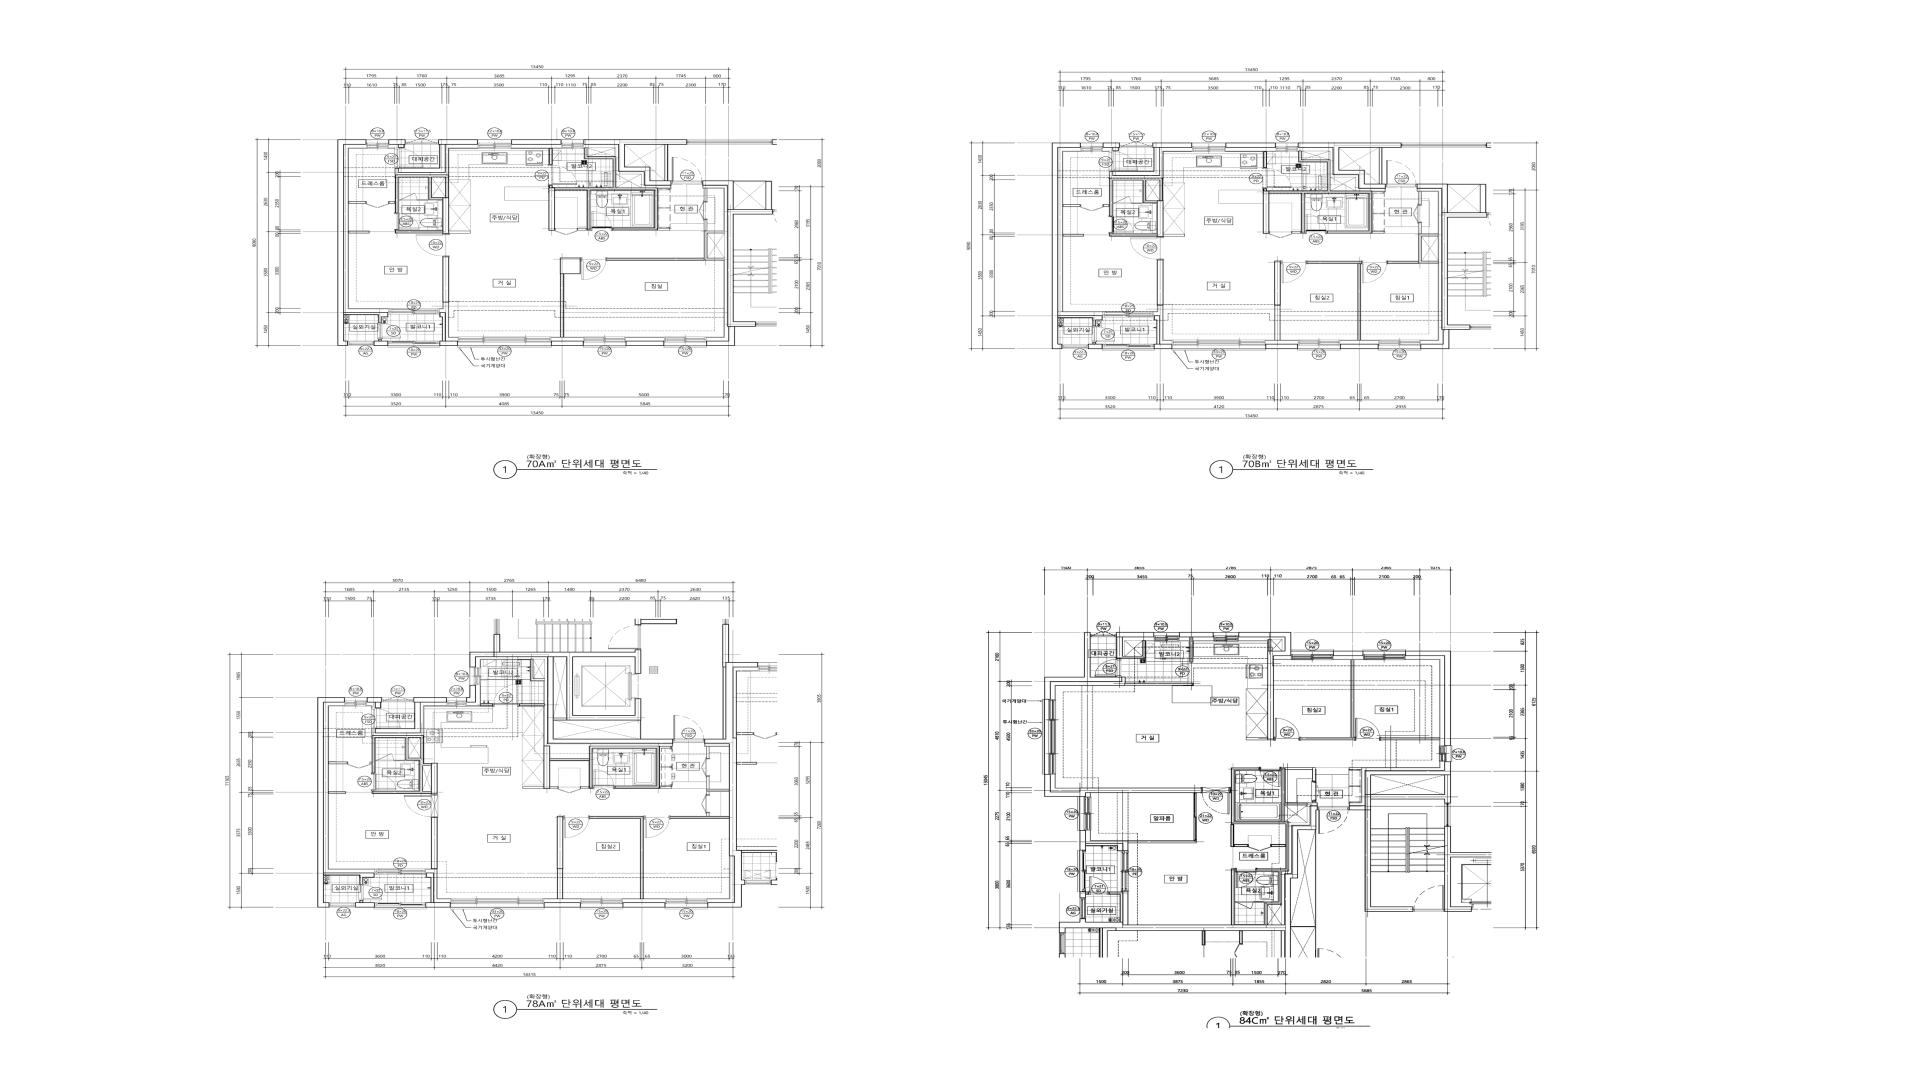door: (1317, 806, 1349, 833), (1201, 787, 1232, 815), (671, 157, 703, 183), (673, 715, 704, 741), (608, 625, 641, 650), (404, 794, 438, 818), (1414, 886, 1444, 913), (1386, 161, 1418, 186), (415, 233, 448, 257), (549, 165, 578, 186), (1274, 717, 1300, 740), (1354, 717, 1381, 740), (1280, 261, 1307, 284), (493, 684, 520, 707), (563, 816, 589, 839), (644, 816, 670, 839), (1263, 167, 1291, 189), (394, 148, 423, 167), (1109, 152, 1138, 171), (1362, 261, 1387, 284), (580, 258, 607, 280), (372, 708, 400, 728), (1095, 659, 1121, 676), (1259, 767, 1282, 787), (591, 211, 613, 231), (1234, 869, 1257, 887), (1304, 215, 1327, 233), (592, 770, 615, 789), (1109, 216, 1133, 233), (372, 774, 396, 791), (1088, 877, 1109, 895), (378, 323, 401, 339), (1093, 326, 1116, 342), (360, 885, 382, 901), (1193, 793, 1197, 840), (1312, 781, 1320, 803), (1270, 231, 1292, 239), (365, 202, 389, 208), (1080, 204, 1104, 211), (347, 762, 371, 769), (1249, 844, 1271, 851), (555, 228, 578, 235), (558, 786, 580, 793), (1234, 902, 1253, 910), (699, 202, 707, 220), (1414, 204, 1422, 223), (702, 758, 709, 777), (400, 193, 417, 200), (376, 753, 393, 761), (702, 795, 709, 812), (1091, 632, 1116, 637), (1113, 196, 1131, 203)
wall: (1059, 806, 1317, 957), (469, 634, 673, 744), (670, 624, 741, 907), (476, 657, 673, 758), (607, 186, 728, 342), (1349, 762, 1451, 913), (1232, 767, 1317, 924), (318, 698, 375, 907), (1416, 183, 1487, 349), (703, 181, 773, 345), (1052, 142, 1102, 349), (338, 140, 388, 345), (555, 145, 671, 231), (1263, 150, 1373, 233), (323, 703, 375, 873), (1058, 148, 1102, 315), (1238, 632, 1291, 740), (1044, 632, 1125, 699), (543, 746, 659, 789), (1298, 142, 1402, 189), (584, 140, 687, 186), (589, 816, 644, 899), (1307, 261, 1362, 340), (1300, 659, 1354, 740), (1406, 651, 1451, 746), (1444, 825, 1491, 913), (1418, 189, 1443, 344), (1298, 148, 1386, 191), (372, 736, 438, 794), (1044, 774, 1201, 796), (1109, 178, 1163, 236), (394, 140, 477, 175), (1113, 142, 1192, 175), (375, 698, 447, 733), (1109, 148, 1192, 178), (372, 703, 447, 736), (1291, 829, 1316, 927), (389, 175, 448, 214), (551, 274, 583, 342), (1371, 775, 1444, 795), (708, 856, 735, 903), (1266, 306, 1298, 344), (1116, 632, 1154, 658), (512, 145, 562, 165), (1080, 831, 1129, 851), (426, 873, 451, 907), (426, 869, 451, 902), (439, 302, 458, 342), (1154, 306, 1172, 344), (1154, 315, 1172, 349), (1122, 637, 1154, 657), (439, 313, 458, 345), (556, 816, 563, 899), (707, 233, 725, 258), (1109, 891, 1124, 922), (1422, 236, 1439, 261), (707, 777, 729, 795), (1232, 824, 1249, 848), (704, 744, 729, 758), (431, 818, 438, 869), (560, 257, 580, 274), (1179, 632, 1213, 641), (530, 659, 545, 680), (1156, 260, 1163, 306), (549, 186, 555, 231), (1274, 261, 1280, 306), (1146, 181, 1159, 203), (467, 684, 480, 707), (634, 618, 676, 625), (1225, 142, 1276, 148), (587, 148, 616, 157), (1129, 840, 1196, 844), (512, 140, 562, 145), (409, 737, 421, 758), (1333, 651, 1364, 659), (443, 257, 448, 302), (1269, 637, 1284, 651), (622, 902, 665, 907), (1225, 148, 1276, 152), (1340, 344, 1378, 349), (543, 902, 580, 907), (394, 229, 443, 233), (443, 198, 448, 233), (1125, 683, 1193, 686), (467, 684, 476, 703), (622, 899, 665, 903), (367, 698, 382, 708), (1266, 344, 1298, 349), (1102, 142, 1120, 152), (1381, 737, 1440, 740), (1340, 340, 1378, 344), (626, 342, 663, 345), (626, 338, 663, 342), (1232, 869, 1234, 924), (355, 901, 375, 907), (389, 140, 405, 148), (551, 342, 583, 345), (1088, 342, 1102, 349), (1189, 637, 1193, 662), (543, 899, 580, 902), (373, 339, 388, 345), (665, 145, 667, 181), (1379, 148, 1382, 183), (1387, 261, 1419, 264), (520, 704, 545, 707), (1263, 152, 1267, 167), (448, 231, 471, 233), (522, 786, 543, 789), (348, 231, 369, 233), (1246, 737, 1267, 740), (348, 202, 365, 204), (733, 181, 766, 182), (1080, 891, 1087, 898), (1102, 148, 1113, 152), (1448, 183, 1480, 185), (367, 703, 375, 708), (389, 145, 398, 149), (480, 704, 493, 707), (554, 717, 567, 720), (1373, 231, 1385, 233), (1349, 767, 1361, 770), (659, 786, 671, 789), (1163, 235, 1185, 236), (580, 786, 589, 789), (1292, 231, 1302, 233), (640, 720, 641, 738), (550, 786, 558, 789), (393, 760, 405, 761), (1253, 902, 1265, 903), (417, 199, 427, 200), (1104, 204, 1109, 207), (707, 812, 709, 816), (1087, 891, 1088, 894), (371, 762, 372, 765), (1131, 203, 1142, 203)
window: (1042, 699, 1056, 774), (450, 899, 545, 910), (1172, 340, 1266, 351), (458, 338, 551, 348), (665, 898, 708, 910), (375, 869, 426, 878), (1378, 340, 1422, 351), (663, 338, 707, 348), (583, 338, 626, 348), (1291, 649, 1335, 659), (1077, 796, 1091, 831), (580, 899, 622, 910), (1298, 340, 1340, 351), (1364, 649, 1406, 659), (375, 902, 426, 910), (1077, 851, 1087, 891), (388, 342, 440, 348), (1102, 311, 1154, 318), (1102, 344, 1154, 351), (1121, 851, 1129, 891), (477, 140, 512, 149), (1192, 142, 1225, 152), (388, 309, 439, 314), (1154, 632, 1179, 641), (1213, 632, 1238, 641), (1120, 141, 1153, 148), (405, 138, 438, 145), (381, 696, 413, 703), (367, 140, 389, 149), (1080, 142, 1102, 152), (562, 140, 584, 149), (344, 698, 367, 707), (1276, 142, 1298, 152), (1440, 746, 1452, 762), (447, 698, 467, 707), (469, 667, 480, 684), (1444, 803, 1451, 827), (1062, 344, 1088, 349), (1080, 898, 1087, 919), (348, 342, 373, 345), (330, 903, 355, 907)
